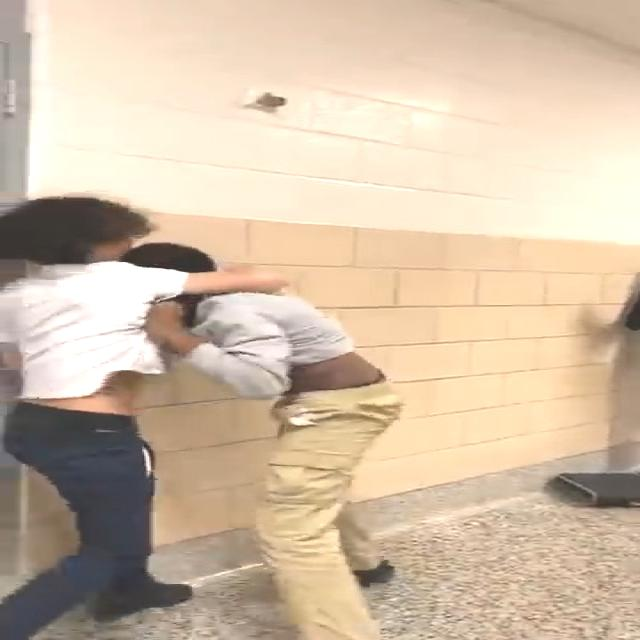fight: (6, 197, 410, 640)
